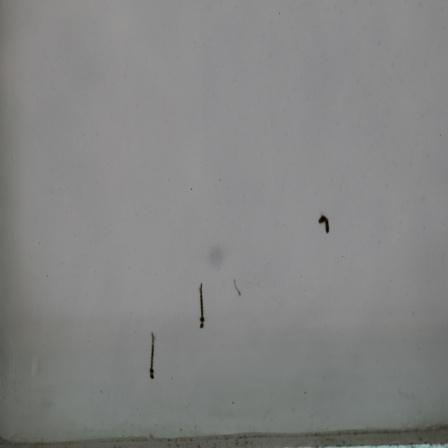Jentik-Nyamuk: (145, 330, 159, 383), (195, 281, 208, 333), (315, 212, 332, 234)
